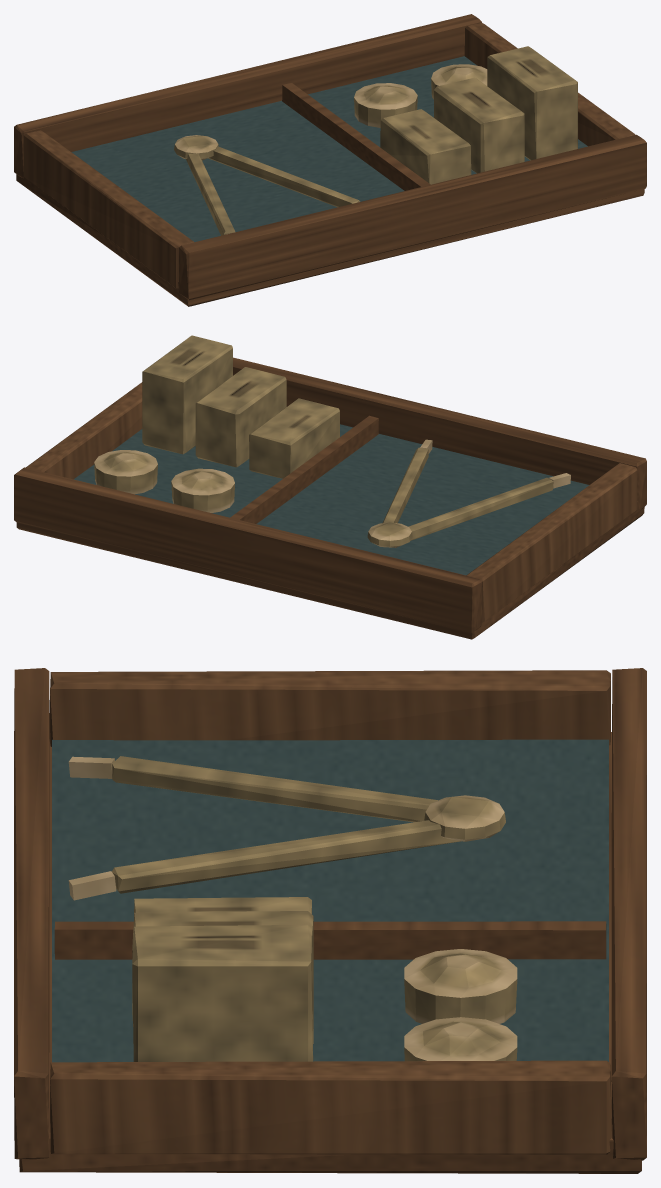
File: DividerPartsTray_LOD1.fbx
The picture shows the model from 3 angles, top to bottom: view 1: azimuth 30°, elevation 25°; view 2: azimuth 150°, elevation 25°; view 3: azimuth 270°, elevation 25°; orthographic projection. The views are drawn at different scales.
Parts seen in each view (by area): view 1: DividerPartsTray.001; view 2: DividerPartsTray.001; view 3: DividerPartsTray.001.
Boxes of the visible parts, x1,y1,x2,y2 form: DividerPartsTray.001: (14,14,646,306); DividerPartsTray.001: (14,335,646,639); DividerPartsTray.001: (14,668,646,1173).
Bounding box in the file's own units: 0.682 × 0.1435 × 0.4469.
1 material, 1 textured.
